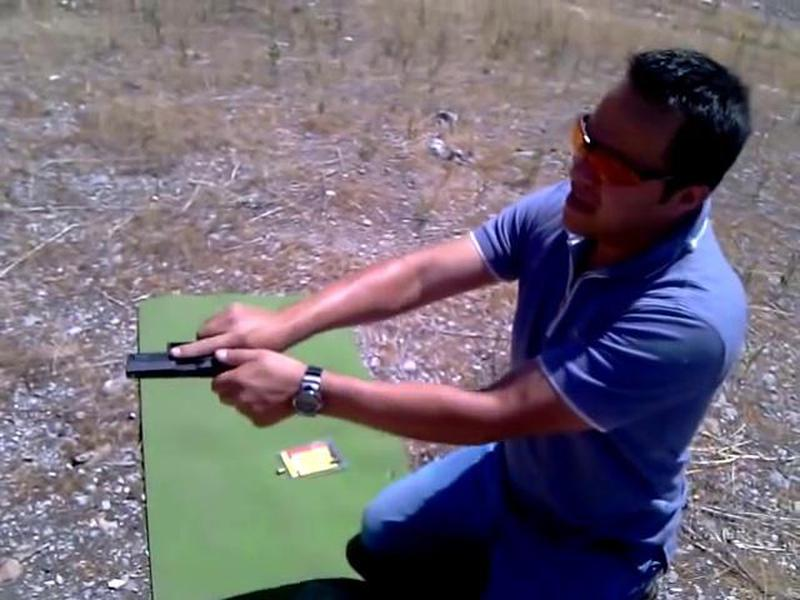Pistola: (115, 319, 250, 397)
